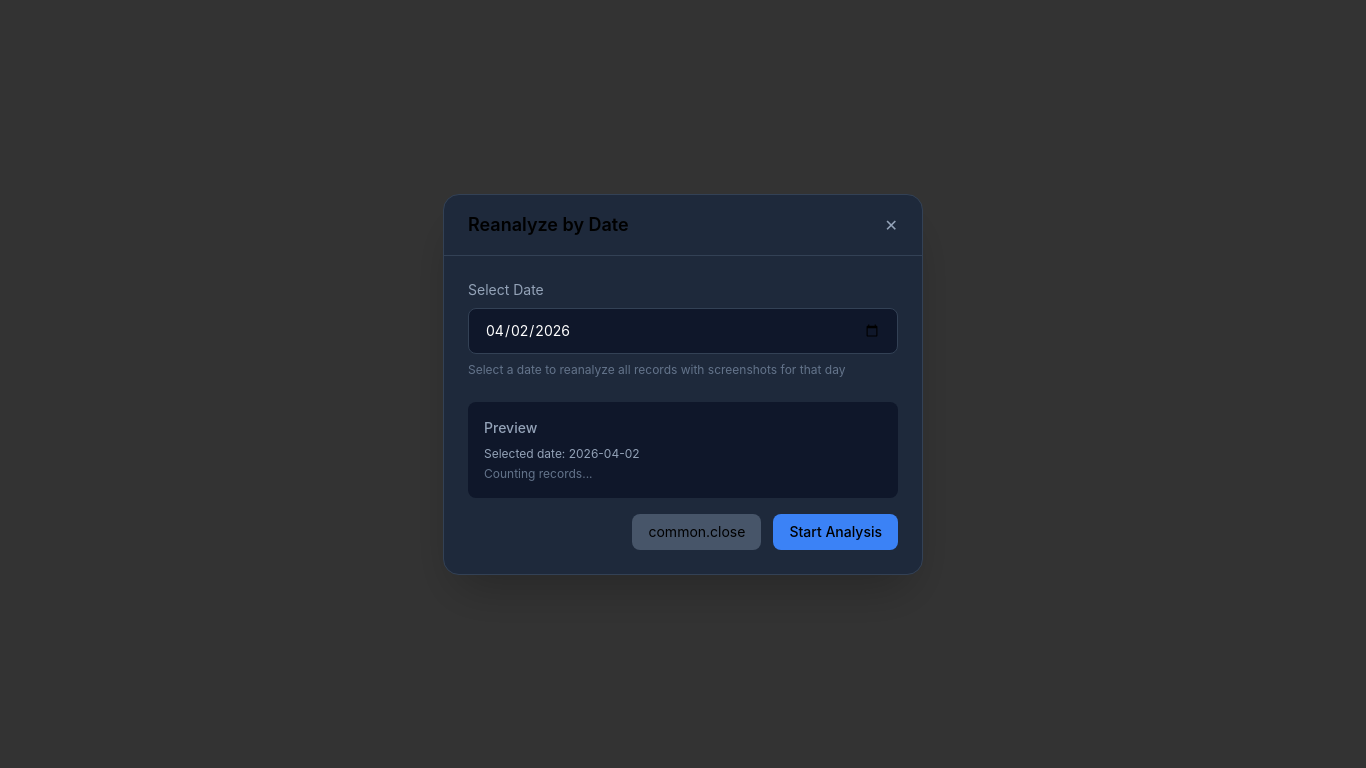
Test: ReanalyzeByDateModal › reanalysis action › shows result with failed count
Click the button "Start Analysis". click: (836, 532)
box: [773,514,898,550]
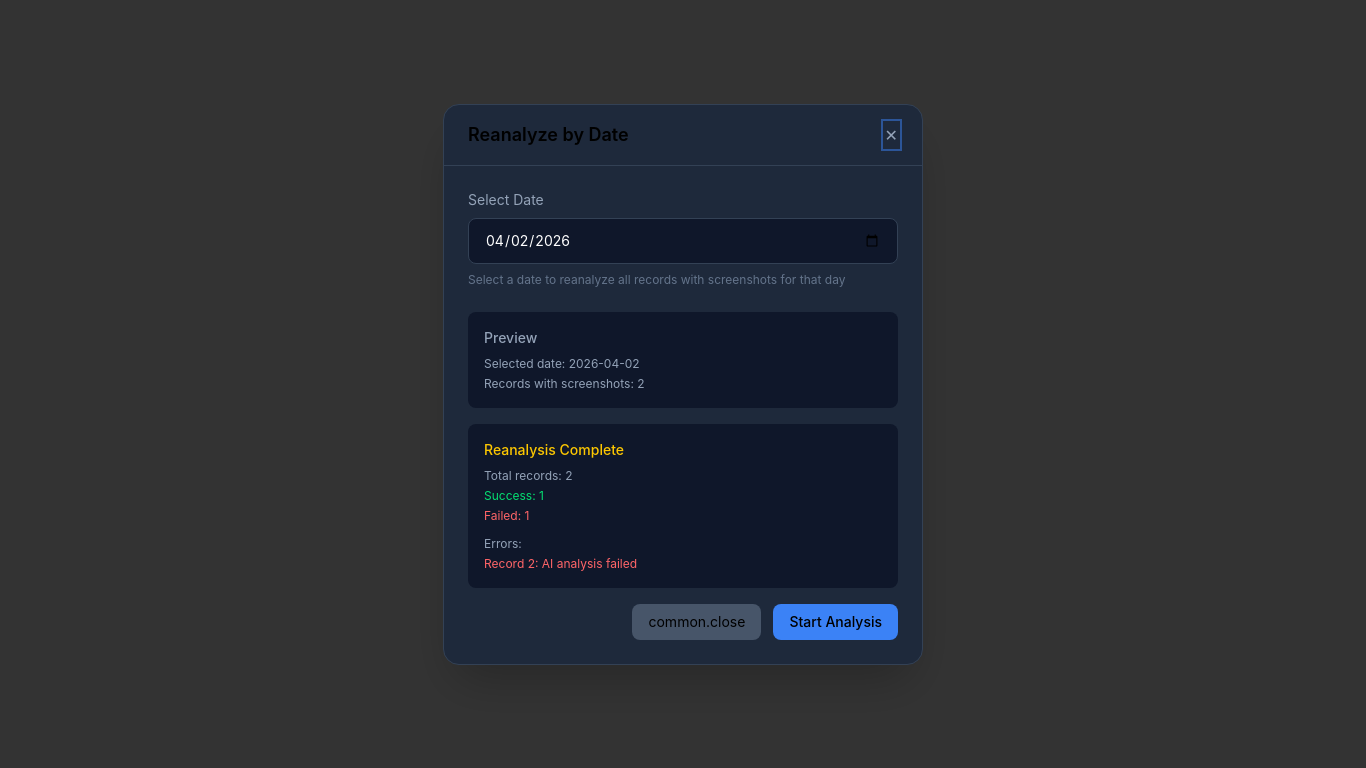
Now the text "Total records" is shown, box [484,468,572,482]
Now the text "Success" is shown, box [484,488,544,502]
Now the text "Failed" is shown, box [484,508,529,522]
